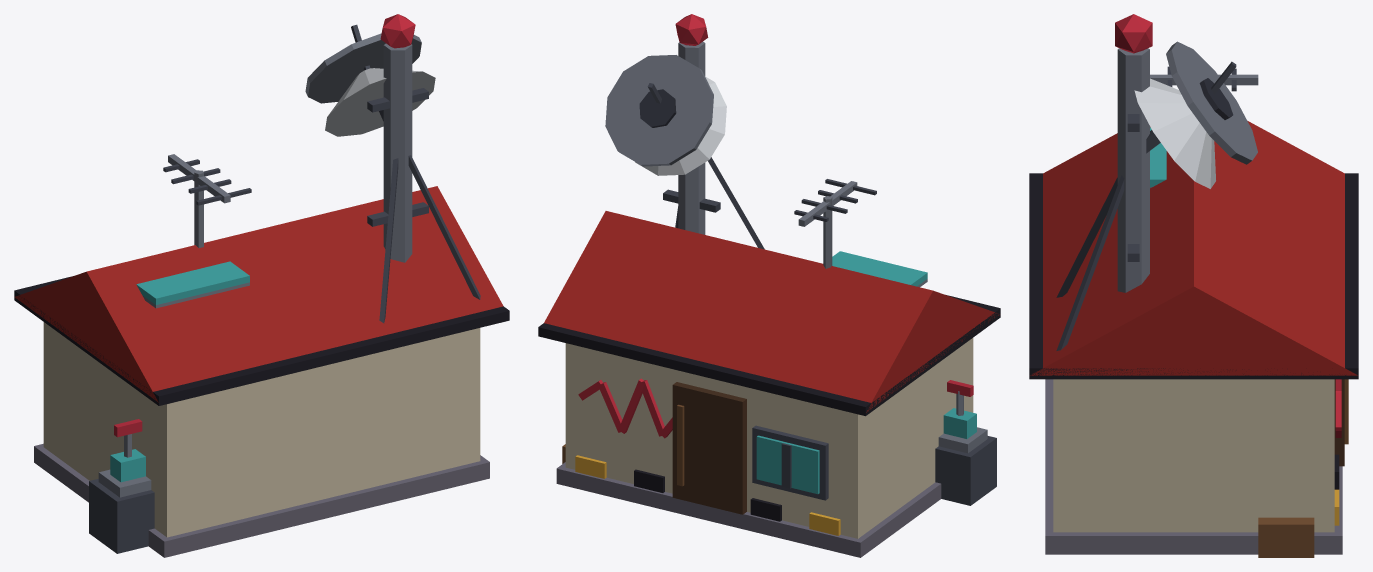
File: Decor_Volcano_Station.fbx
3 renders of one model, left to right at view 1: azimuth 30°, elevation 25°; view 2: azimuth 150°, elevation 25°; view 3: azimuth 270°, elevation 25°, orthographic. The views are drawn at different scales.
Visible parts, largest first — view 1: Station_Body; view 2: Station_Body; view 3: Station_Body.
Part boxes in pixels (<box>): Station_Body: <box>14,14,509,557</box>; Station_Body: <box>538,14,1000,557</box>; Station_Body: <box>1029,14,1358,557</box>.
Bounding box in the file's own units: 11.8 × 13.7 × 8.
